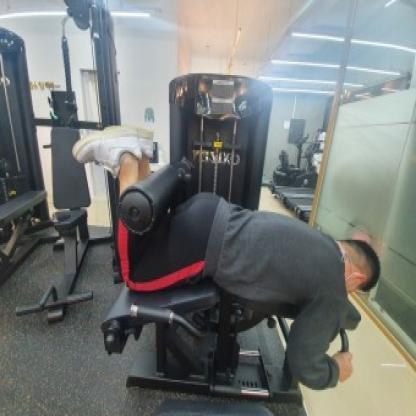reg curl machine: (72, 68, 384, 409)
